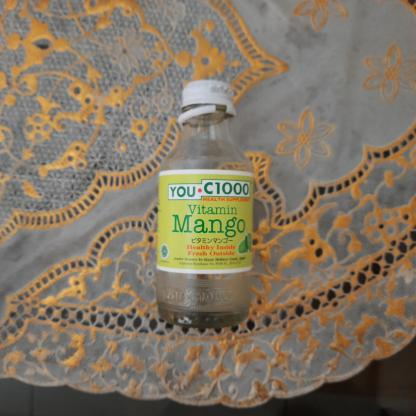bottle: (149, 72, 267, 328)
